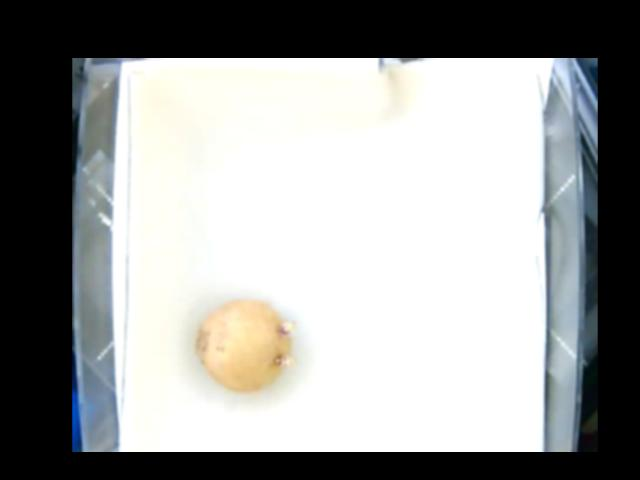Potato: (195, 299, 295, 393)
